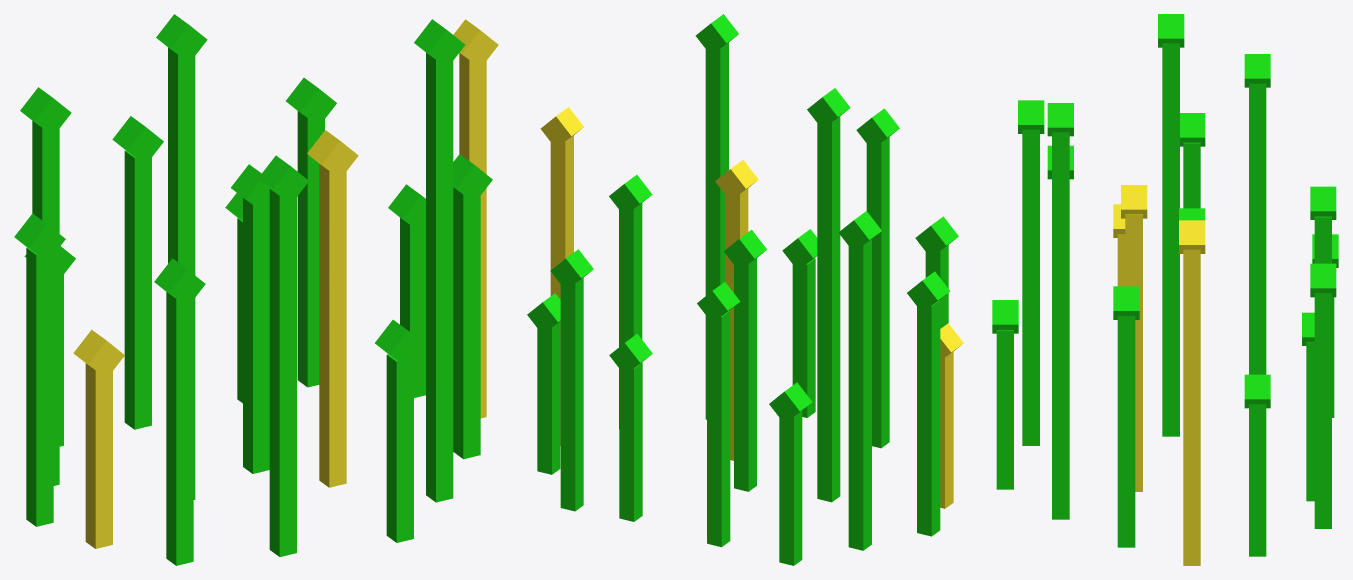
File: PlantNeedle.fbx
The picture shows the model from 3 angles, left to right: view 1: azimuth 30°, elevation 25°; view 2: azimuth 150°, elevation 25°; view 3: azimuth 270°, elevation 25°; orthographic projection. The views are drawn at different scales.
Visible parts, largest first — view 1: Cube.006, Cube.018, Cube.003, Cube.019, Cube.022, Cube.014, Cube.009, Cube.001, Cube.017, Cube.007, Cube.011, Cube.012 (+5 smaller); view 2: Cube.017, Cube.013, Cube.018, Cube.006, Cube.019, Cube.022, Cube.007, Cube.001, Cube.004, Cube.015, Cube.010, Cube.020 (+5 smaller); view 3: Cube.017, Cube.006, Cube.018, Cube.020, Cube.013, Cube.009, Cube.007, Cube.011, Cube.003, Cube.010, Cube.022, Cube.004 (+3 smaller).
Boxes of the visible parts, left/top/right/bottom form: Cube.006: left=414, top=19, right=465, bottom=502; Cube.018: left=258, top=155, right=308, bottom=556; Cube.003: left=307, top=130, right=358, bottom=487; Cube.019: left=112, top=116, right=163, bottom=429; Cube.022: left=14, top=213, right=65, bottom=526; Cube.014: left=154, top=258, right=205, bottom=565; Cube.009: left=453, top=154, right=492, bottom=459; Cube.001: left=231, top=164, right=269, bottom=473; Cube.017: left=156, top=14, right=207, bottom=499; Cube.007: left=286, top=78, right=336, bottom=387; Cube.011: left=375, top=320, right=425, bottom=542; Cube.012: left=73, top=329, right=124, bottom=548; Cube.017: left=807, top=88, right=850, bottom=502; Cube.013: left=838, top=211, right=881, bottom=550; Cube.018: left=856, top=108, right=899, bottom=448; Cube.006: left=695, top=14, right=738, bottom=419; Cube.019: left=697, top=282, right=740, bottom=547; Cube.022: left=907, top=271, right=950, bottom=536; Cube.007: left=550, top=249, right=593, bottom=511; Cube.001: left=724, top=230, right=766, bottom=491; Cube.004: left=609, top=333, right=652, bottom=521; Cube.015: left=769, top=382, right=812, bottom=565; Cube.010: left=527, top=293, right=560, bottom=474; Cube.020: left=540, top=107, right=583, bottom=445; Cube.017: left=1158, top=14, right=1184, bottom=436; Cube.006: left=1047, top=103, right=1073, bottom=519; Cube.018: left=1018, top=100, right=1044, bottom=445; Cube.020: left=1179, top=220, right=1205, bottom=565; Cube.013: left=1244, top=54, right=1270, bottom=374; Cube.009: left=1113, top=286, right=1139, bottom=547; Cube.007: left=1310, top=263, right=1336, bottom=528; Cube.011: left=992, top=300, right=1018, bottom=489; Cube.003: left=1121, top=185, right=1147, bottom=491; Cube.010: left=1244, top=374, right=1270, bottom=556; Cube.022: left=1180, top=113, right=1205, bottom=208; Cube.004: left=1302, top=312, right=1314, bottom=501.
Size of the model in its own units: 163 by 159 by 119.
